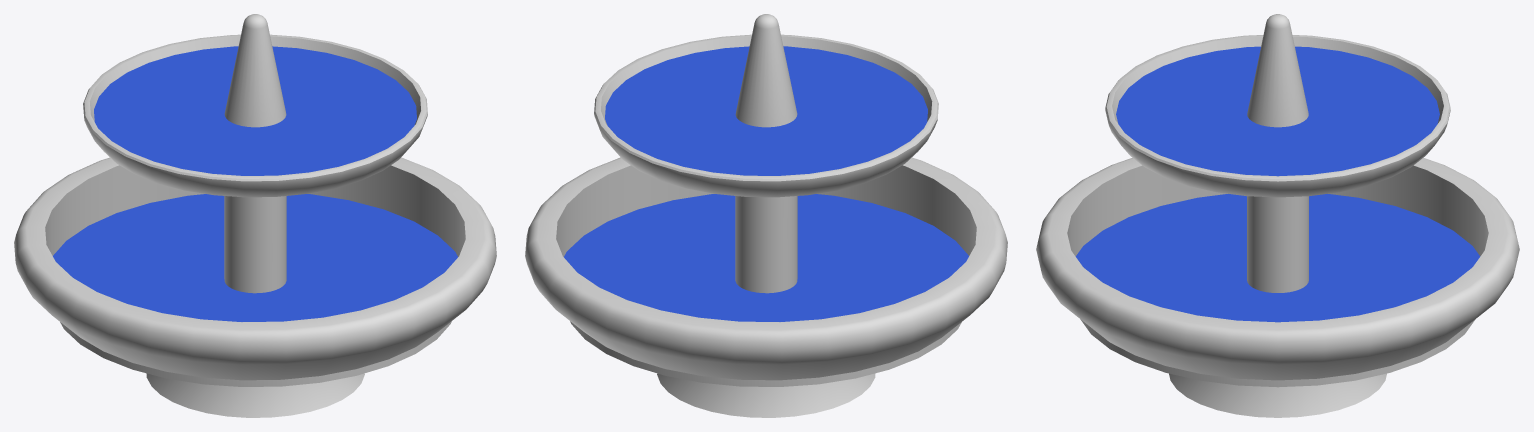
The model's file is Fountain.fbx.
The picture shows the model from 3 angles, left to right: view 1: azimuth 30°, elevation 25°; view 2: azimuth 150°, elevation 25°; view 3: azimuth 270°, elevation 25°; orthographic projection.
Visible parts, largest first — view 1: Circle; view 2: Circle; view 3: Circle.
Boxes of the visible parts, bbox=[...] form: Circle: bbox=[14, 14, 496, 417]; Circle: bbox=[525, 14, 1007, 417]; Circle: bbox=[1036, 14, 1519, 417].
Size of the model in its own units: 441 by 358 by 441.
